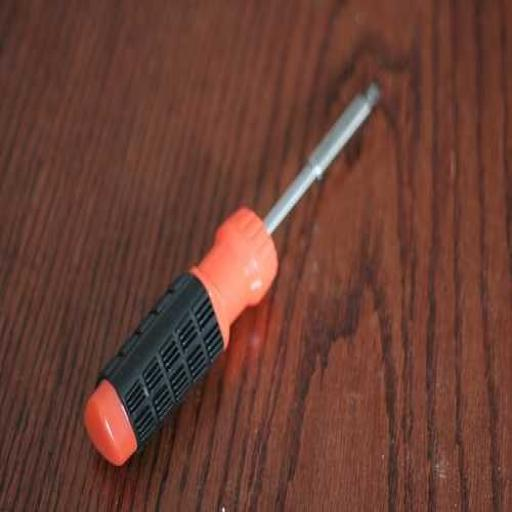screwdriver: (82, 81, 382, 469)
